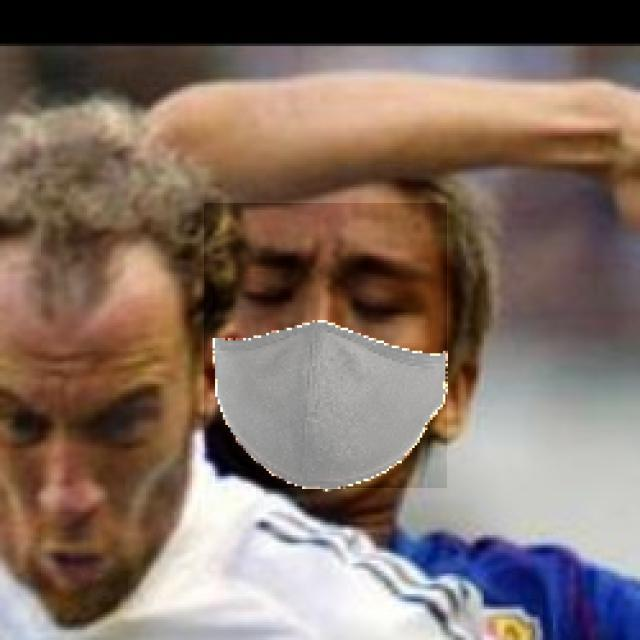cloth: (204, 203, 447, 488)
